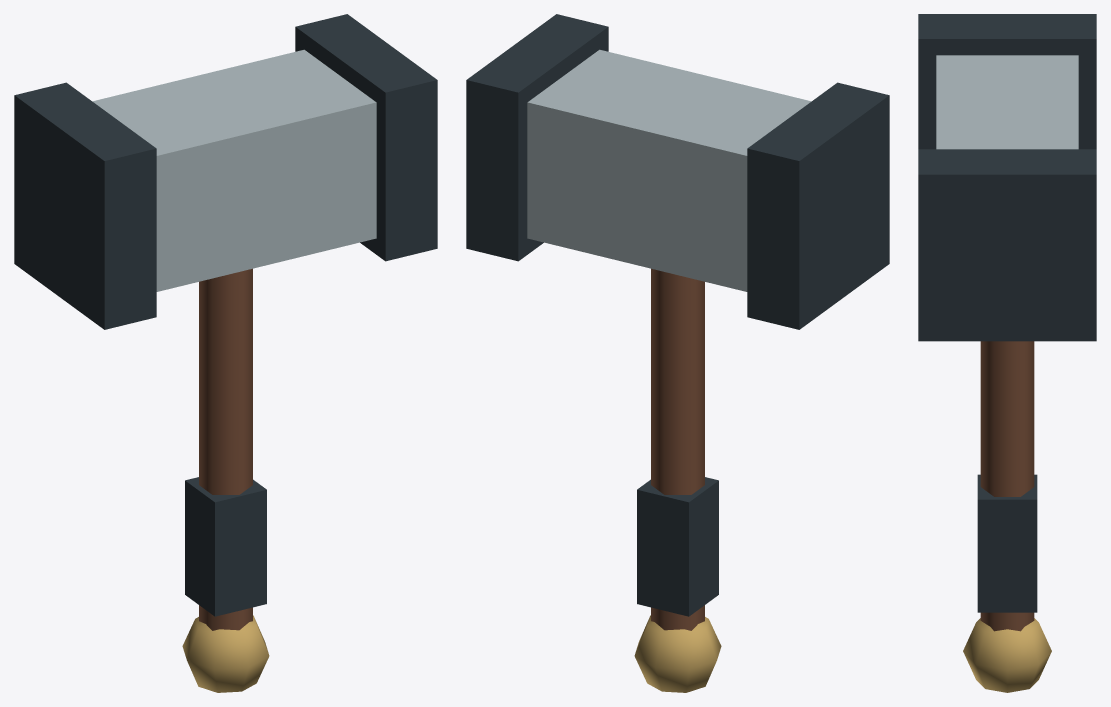
The model's file is fixed-maul-lod1.glb.
3 views of the same model, side by side, from view 1: azimuth 30°, elevation 25°; view 2: azimuth 150°, elevation 25°; view 3: azimuth 270°, elevation 25° (orthographic).
Visible parts, largest first — view 1: piece_whole; view 2: piece_whole; view 3: piece_whole.
Part boxes in pixels (left/top/right/bottom): piece_whole: left=14, top=14, right=437, bottom=692; piece_whole: left=466, top=14, right=889, bottom=692; piece_whole: left=918, top=14, right=1096, bottom=692.
Size of the model in its own units: 0.64 by 1.11 by 0.3.
